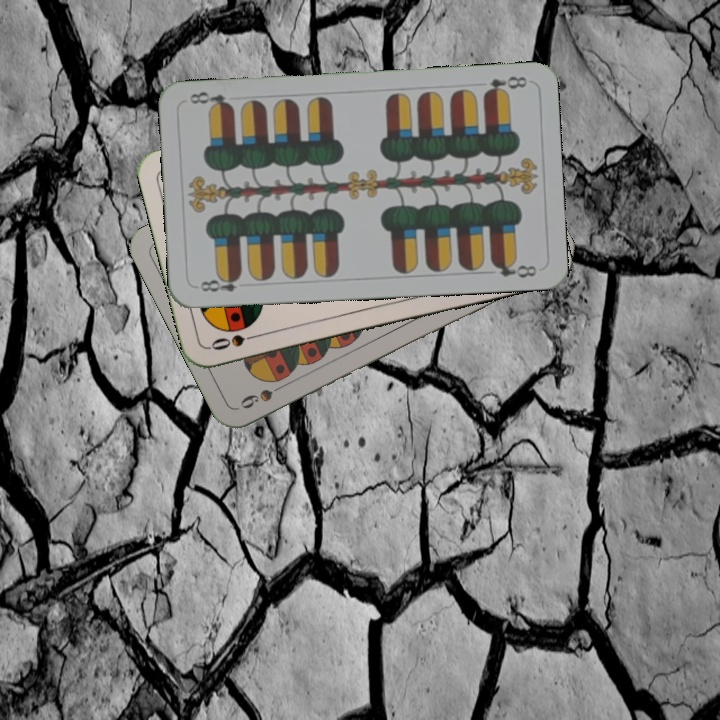E8: (479, 72, 530, 98), (196, 271, 244, 295)
S9: (235, 378, 291, 412)
SO: (206, 329, 265, 353)
